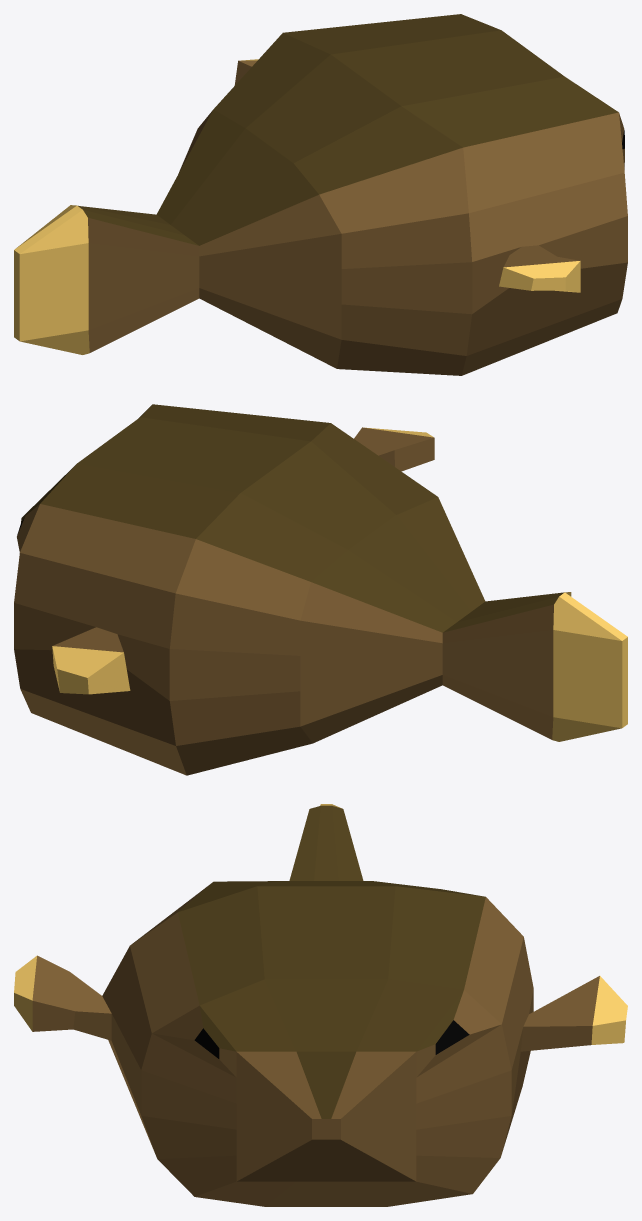
The model's file is PezGlobo.fbx.
3 renders of one model, top to bottom at view 1: azimuth 30°, elevation 25°; view 2: azimuth 150°, elevation 25°; view 3: azimuth 270°, elevation 25°, orthographic. The views are drawn at different scales.
Visible parts, largest first — view 1: PezPequeno3; view 2: PezPequeno3; view 3: PezPequeno3.
Part boxes in pixels (x1=…): PezPequeno3: x1=14, y1=14, x2=627, y2=375; PezPequeno3: x1=14, y1=404, x2=627, y2=775; PezPequeno3: x1=14, y1=804, x2=627, y2=1206.
Bounding box in the file's own units: 884 × 377 × 823.
